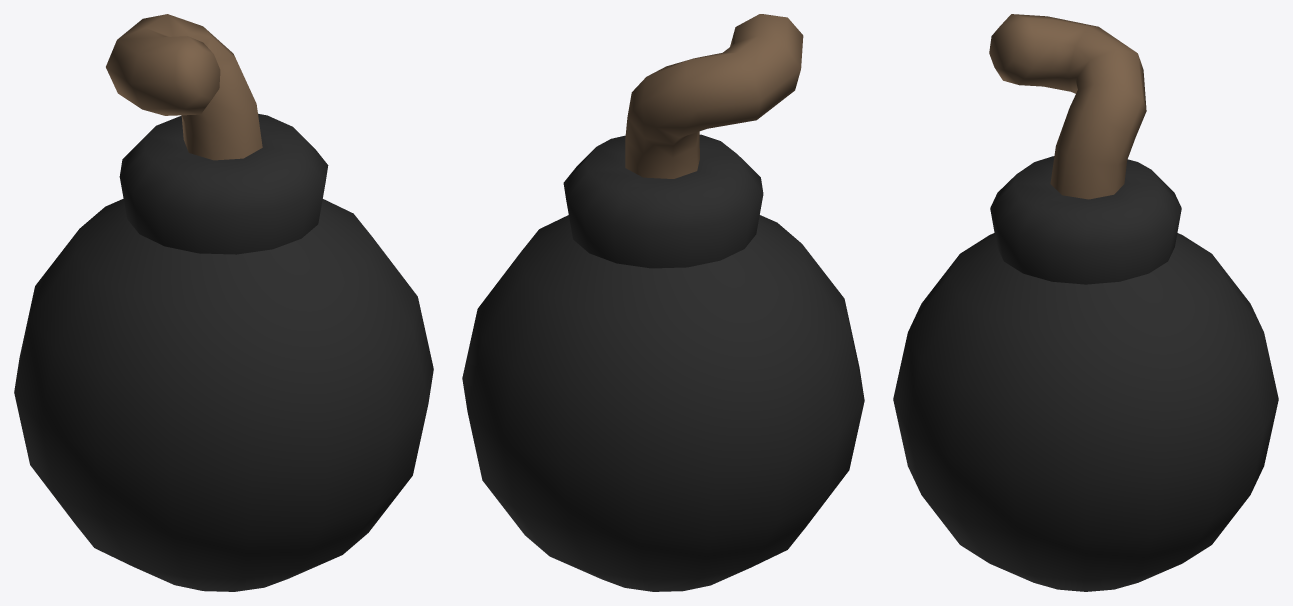
Rendered from Bomb.fbx.
3 views of the same model, side by side, from view 1: azimuth 30°, elevation 25°; view 2: azimuth 150°, elevation 25°; view 3: azimuth 270°, elevation 25° (orthographic). The views are drawn at different scales.
Visible parts, largest first — view 1: Sphere; view 2: Sphere; view 3: Sphere.
Boxes of the visible parts, x1,y1,x2,y2 form: Sphere: (14,14,433,591); Sphere: (462,14,864,591); Sphere: (893,14,1278,591).
Bounding box in the file's own units: 216 × 325 × 216.
